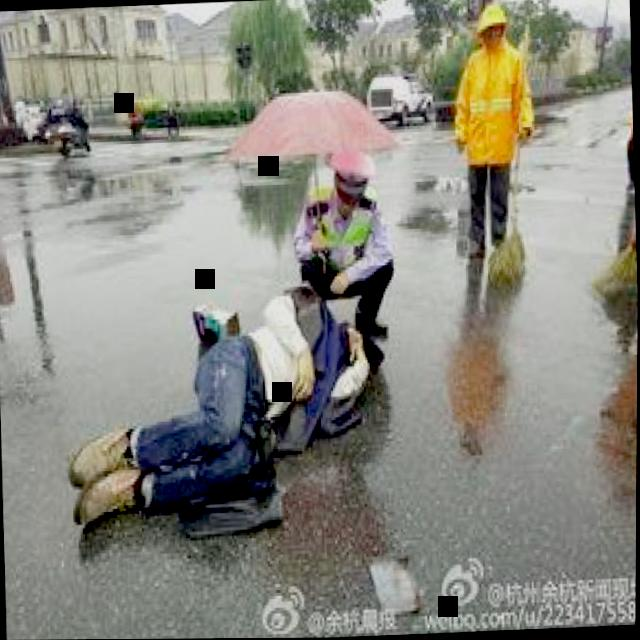Fall-Detected: (49, 263, 379, 555)
